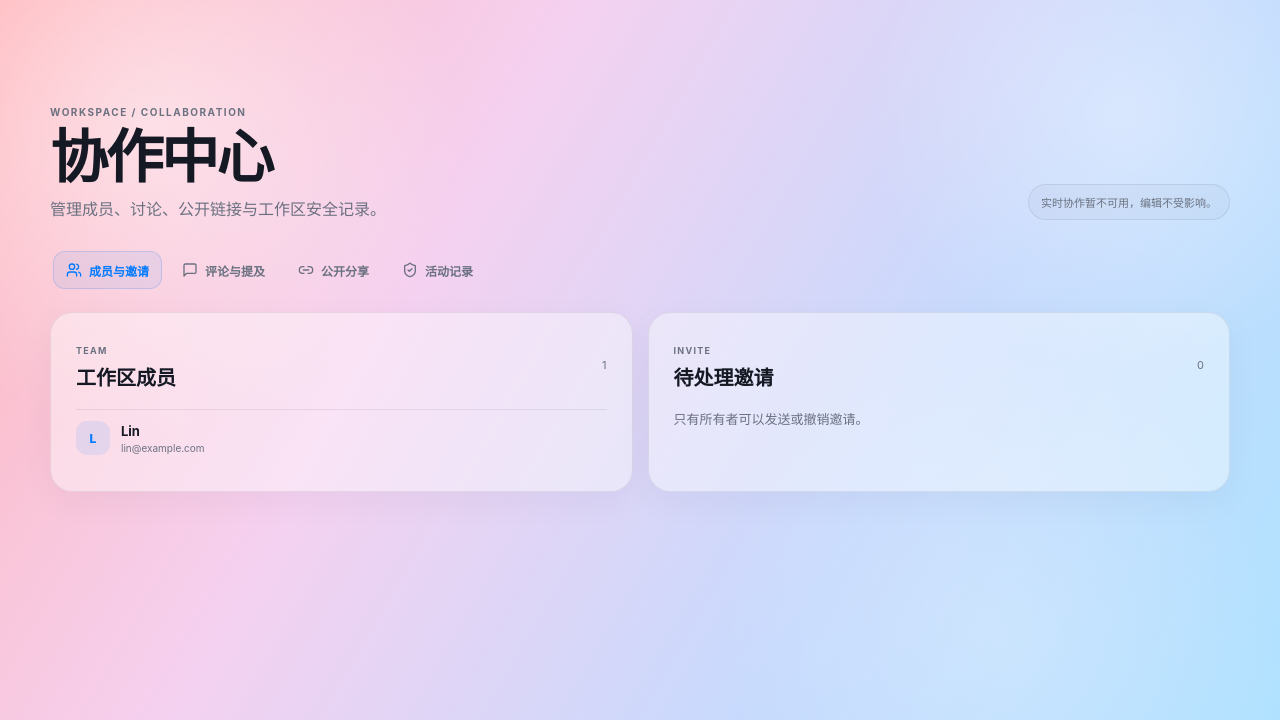
Test: collaboration center › enforces the viewer request matrix while keeping readable comments and activity
Expected: the text "Lin" is shown, [121, 422, 140, 438]
Click the button "评论与提及" at (224, 270), box [169, 251, 278, 289]
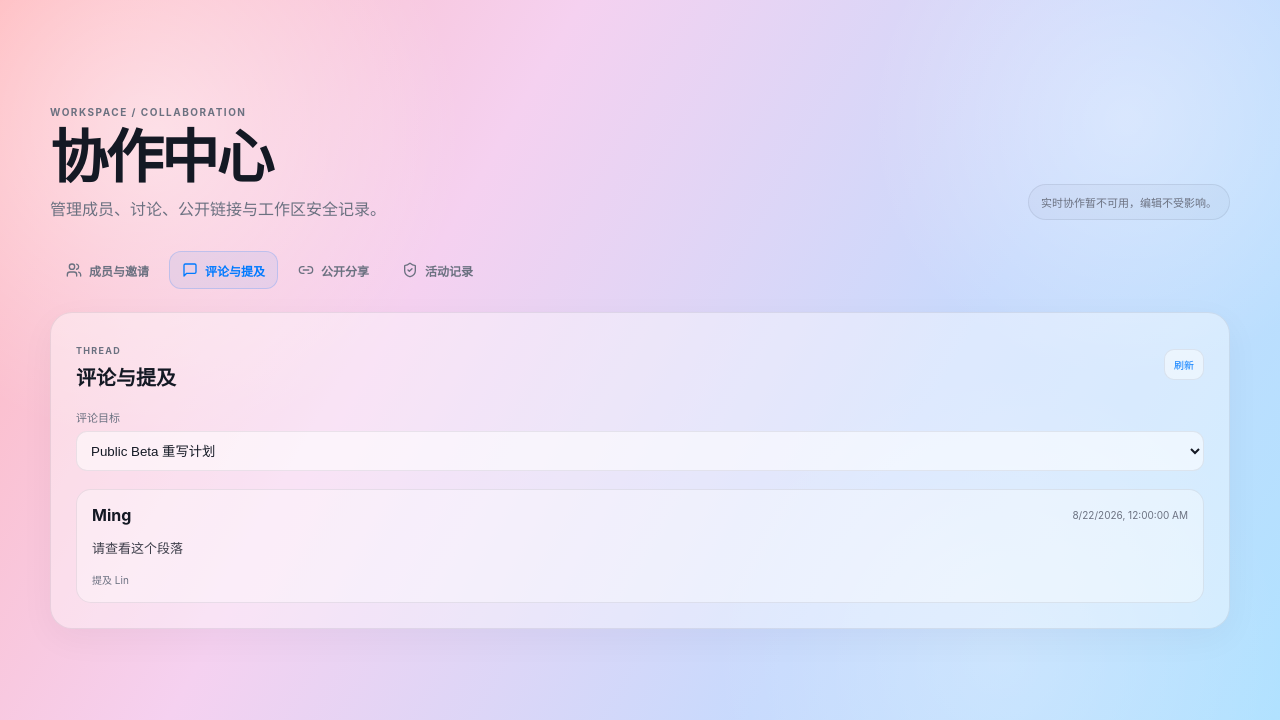
Expected: the text "请查看这个段落" is shown, [92, 540, 183, 556]
Click the button "公开分享" at (334, 270), box [285, 251, 382, 289]
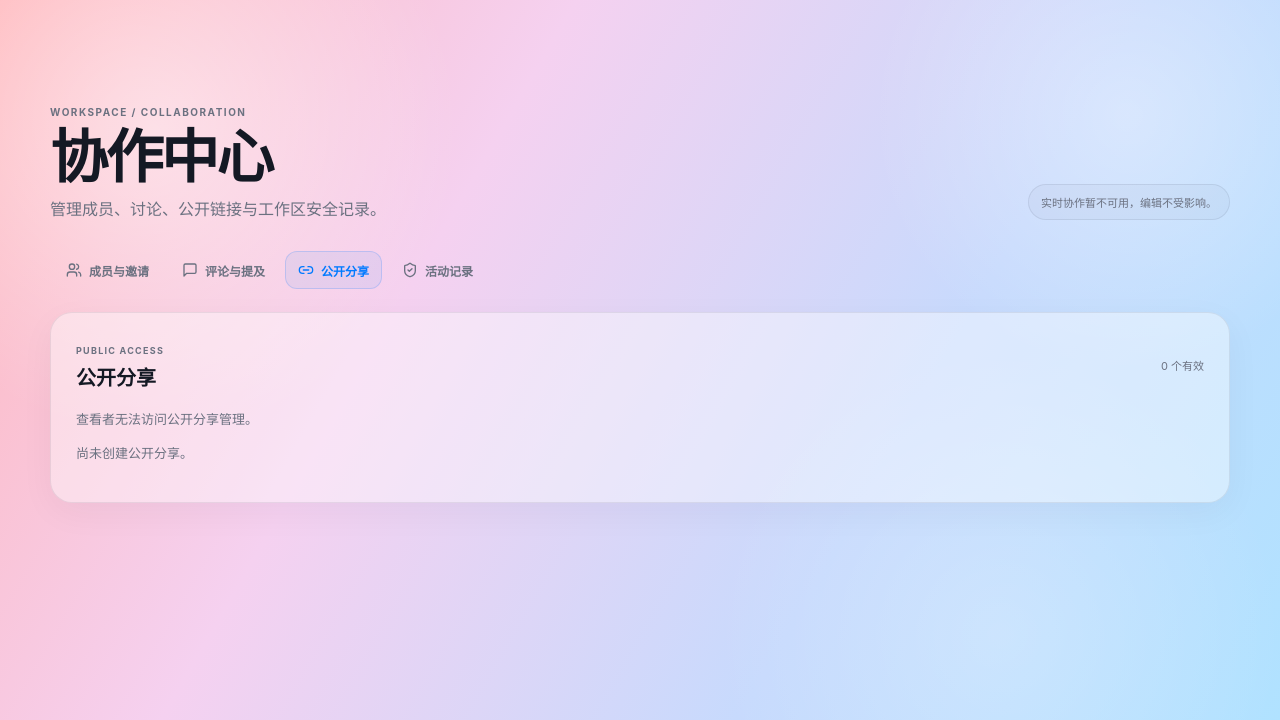
Expected: the text "查看者无法访问公开分享管理。" is shown, [76, 411, 258, 427]
Click the button "活动记录" at (438, 270), box [389, 251, 486, 289]
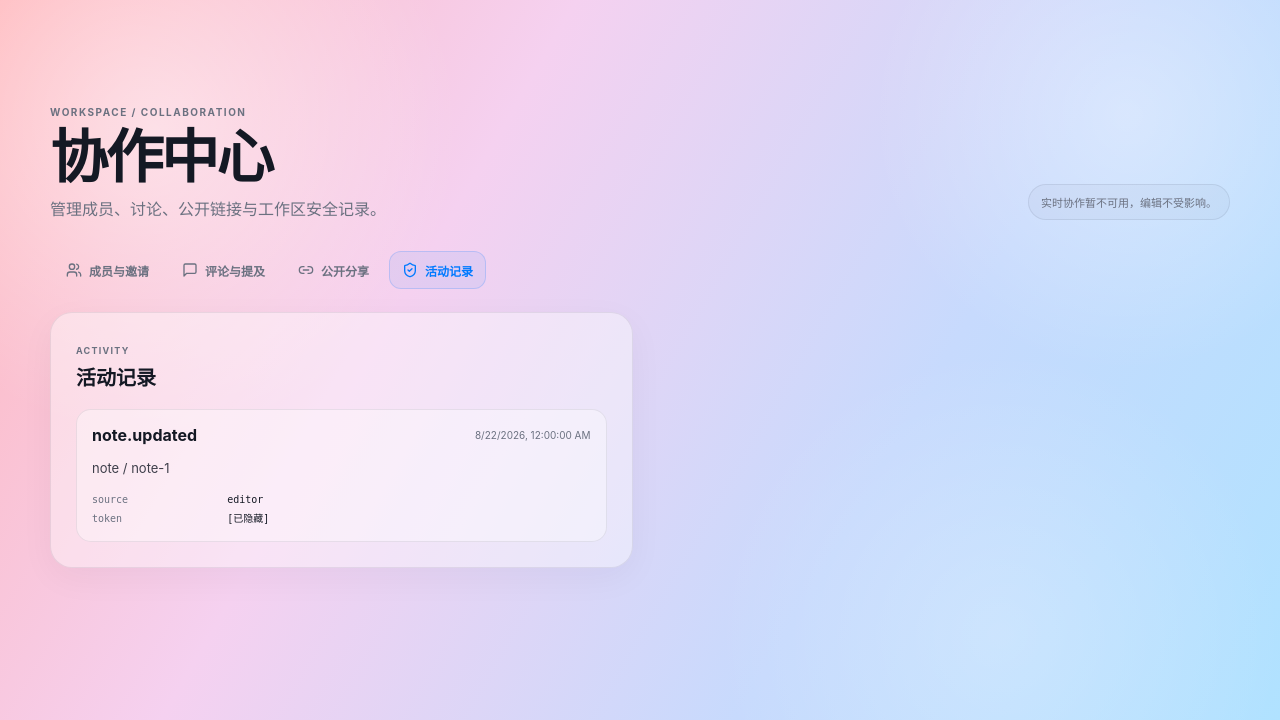
Expected: the text "note.updated" is shown, [92, 425, 197, 445]
